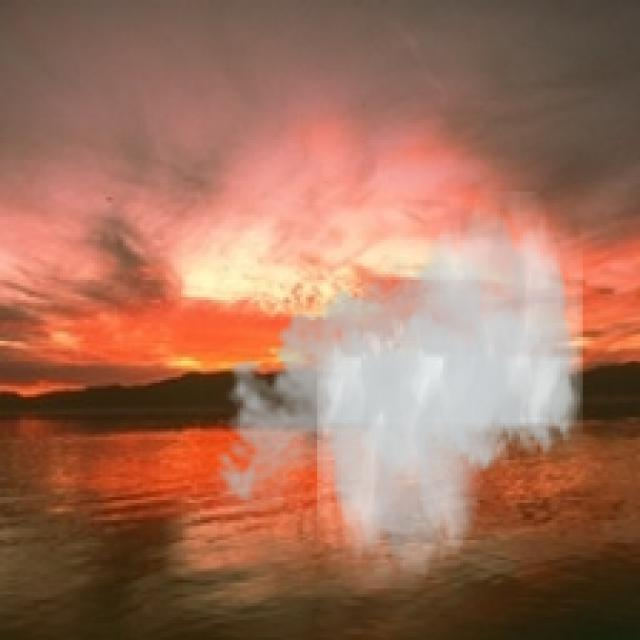Smoke: (206, 192, 583, 588)
